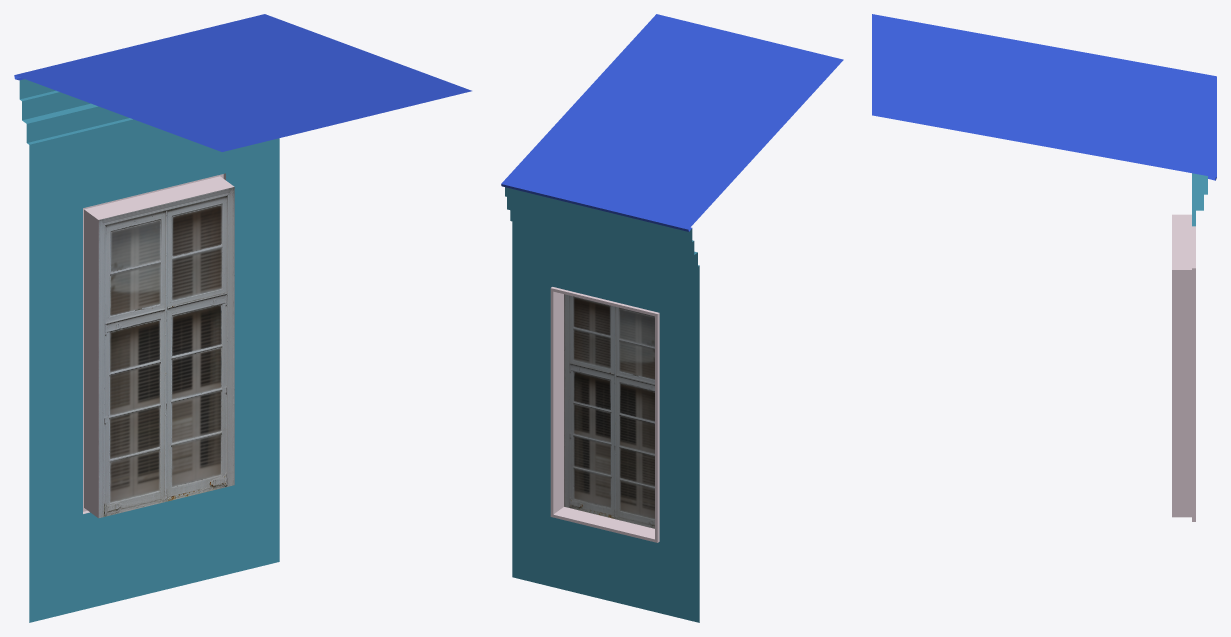
File: FacadeTopFloorA.FBX
3 views of the same model, side by side, from view 1: azimuth 30°, elevation 25°; view 2: azimuth 150°, elevation 25°; view 3: azimuth 270°, elevation 25° (orthographic). The views are drawn at different scales.
Parts seen in each view (by area): view 1: FacadeTopFloorA_Wall, FacadeTopFloorA_Window, FacadeTopFloorA_Roof; view 2: FacadeTopFloorA_Wall, FacadeTopFloorA_Roof, FacadeTopFloorA_Window; view 3: FacadeTopFloorA_Roof, FacadeTopFloorA_Wall.
Boxes of the visible parts, x1=… form: FacadeTopFloorA_Wall: x1=19, y1=79, x2=279, y2=622; FacadeTopFloorA_Window: x1=98, y1=187, x2=234, y2=517; FacadeTopFloorA_Roof: x1=14, y1=14, x2=471, y2=151; FacadeTopFloorA_Wall: x1=505, y1=187, x2=699, y2=622; FacadeTopFloorA_Roof: x1=501, y1=14, x2=843, y2=231; FacadeTopFloorA_Window: x1=564, y1=294, x2=654, y2=528; FacadeTopFloorA_Roof: x1=872, y1=14, x2=1216, y2=180; FacadeTopFloorA_Wall: x1=1172, y1=173, x2=1207, y2=521.
Size of the model in its own units: 300 by 700 by 431.
